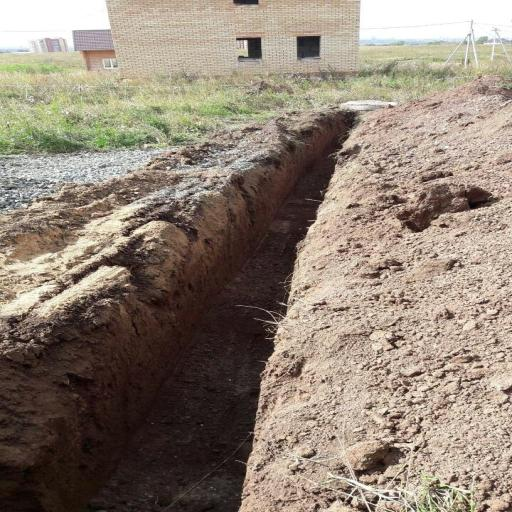construction_fence: (2, 100, 392, 512)
